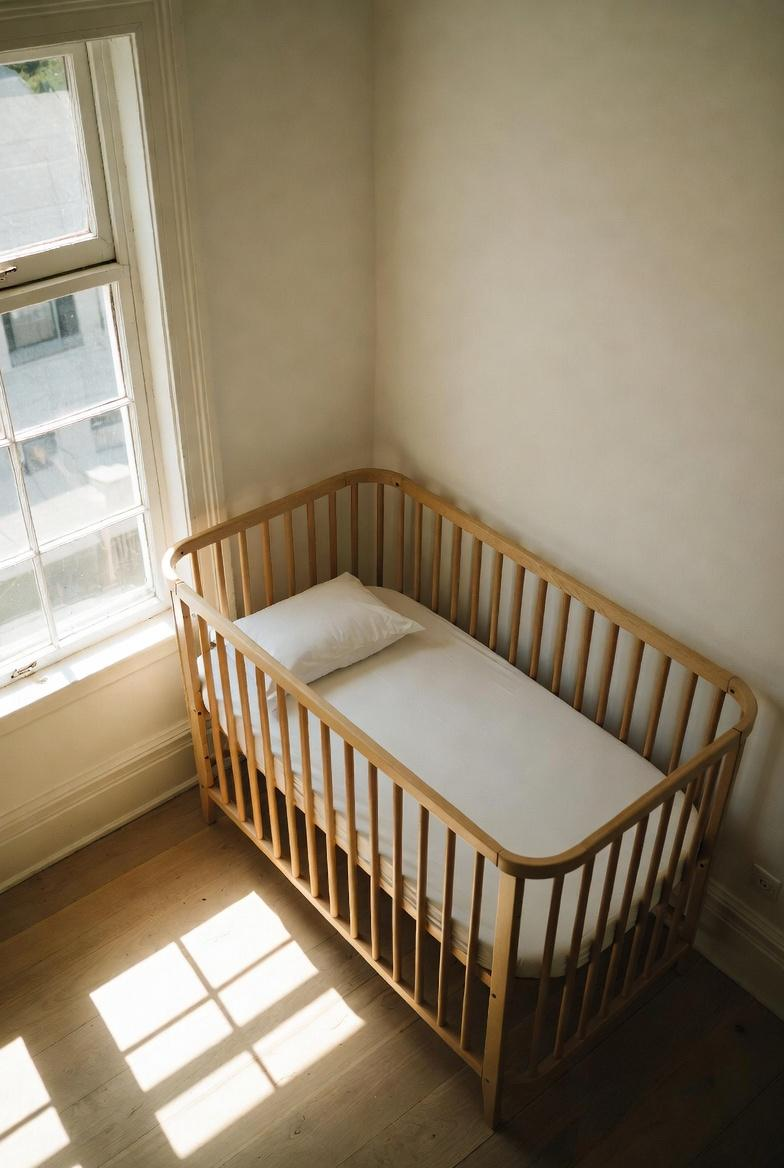crib: (142, 452, 773, 1147)
